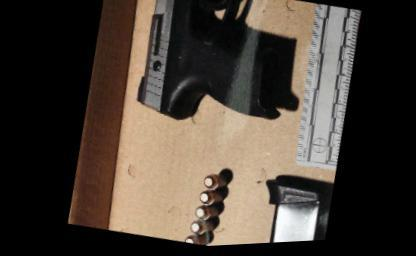pistol: (126, 0, 306, 145)
